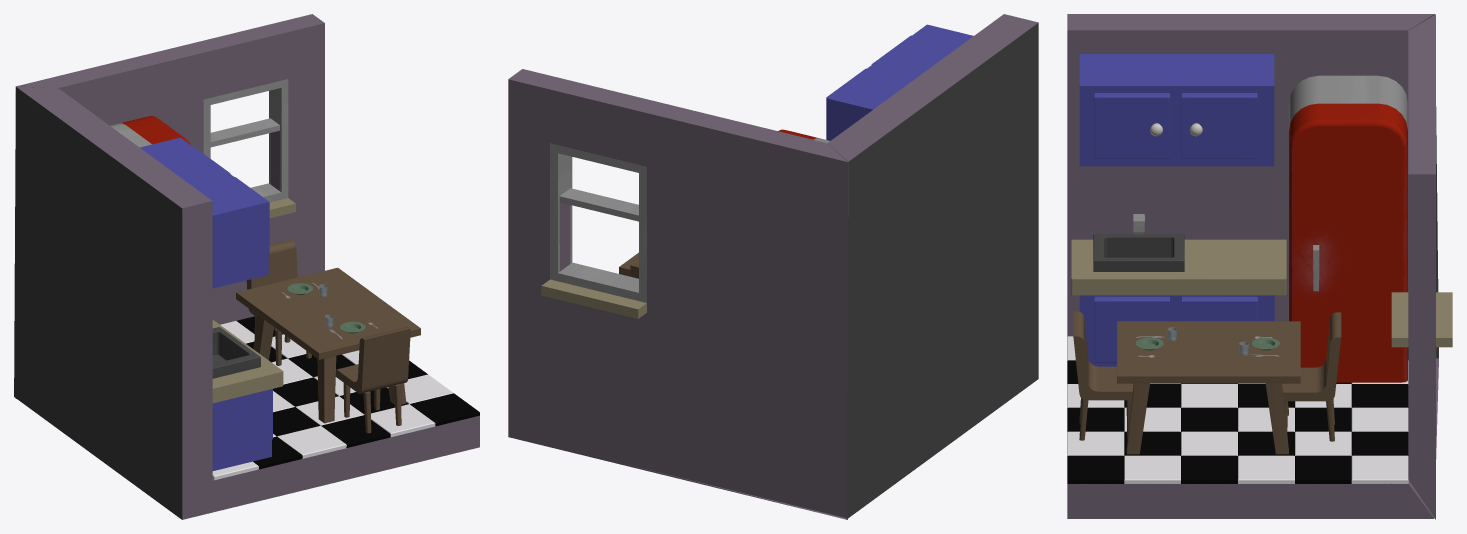
File: KitchenSceneModel.fbx
3 renders of one model, left to right at view 1: azimuth 30°, elevation 25°; view 2: azimuth 150°, elevation 25°; view 3: azimuth 270°, elevation 25°, orthographic. The views are drawn at different scales.
Parts seen in each view (by area): view 1: Room, wallWithWindow, TableTop, UpperCabinetBack, ChairSeat (×2), LowerCabinetBack, Sink, pCube1, pCube19, pCube7, pCube13, FrontRightTableLeg (+9 smaller); view 2: wallWithWindow, Room, UpperCabinetBack; view 3: Room, pCube39, wallWithWindow, Sink, UpperCabinetBack, TableTop, UpperRightDoor, upperLeftDoor, ChairSeat (×2), pCube38, LowerLeftDoor, LowerRightDoor (+27 smaller).
Boxes of the visible parts, x1,y1,x2,y2 form: Room: (14, 86, 479, 519); wallWithWindow: (15, 14, 324, 398); TableTop: (236, 267, 420, 359); UpperCabinetBack: (140, 137, 268, 288); ChairSeat (×2): (246, 239, 410, 393); LowerCabinetBack: (212, 389, 271, 470); Sink: (212, 320, 283, 403); pCube1: (410, 393, 479, 426); pCube19: (277, 425, 346, 458); pCube7: (321, 415, 390, 447); pCube13: (371, 404, 435, 437); FrontRightTableLeg: (317, 356, 336, 423); wallWithWindow: (508, 69, 847, 519); Room: (630, 14, 1038, 519); UpperCabinetBack: (826, 24, 973, 140); Room: (1067, 14, 1438, 518); pCube39: (1289, 103, 1407, 382); wallWithWindow: (1391, 14, 1452, 519); Sink: (1071, 234, 1286, 295); UpperCabinetBack: (1079, 54, 1274, 166); TableTop: (1117, 321, 1300, 383); UpperRightDoor: (1181, 93, 1257, 158); upperLeftDoor: (1094, 93, 1169, 158); ChairSeat (×2): (1073, 311, 1341, 401); pCube38: (1289, 75, 1407, 129); LowerLeftDoor: (1094, 296, 1170, 362); LowerRightDoor: (1181, 296, 1257, 321).
Bounding box in the file's own units: 6.68 × 6.71 × 6.77.
Materials: 14 (3 with a texture image).
